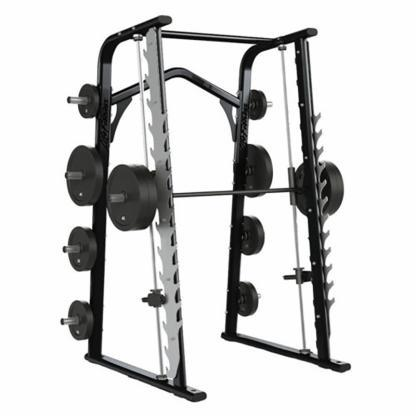smith machine: (62, 15, 352, 402)
